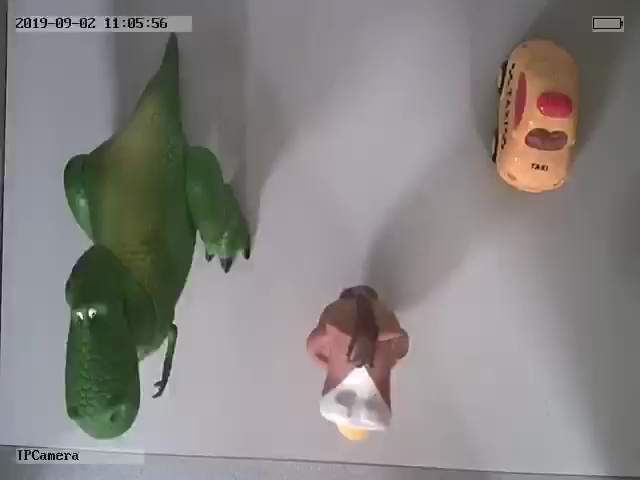car: (490, 35, 579, 193)
horse: (304, 285, 409, 442)
rex: (62, 42, 253, 440)
